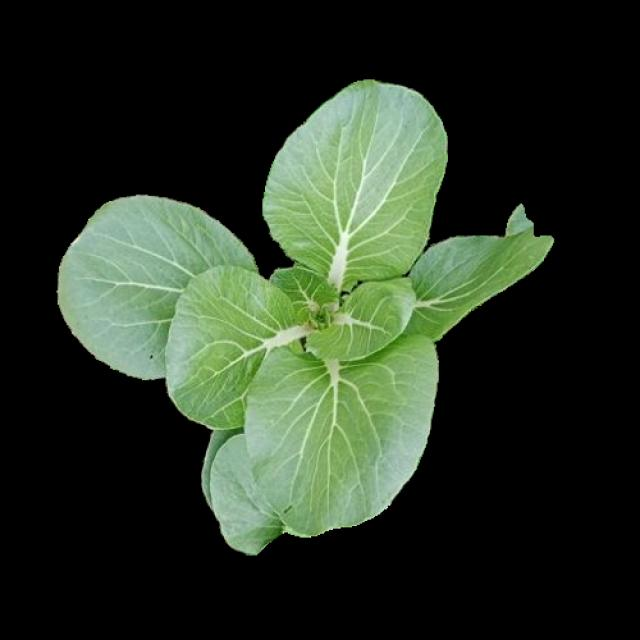healthy: (58, 76, 554, 552)
mature: (60, 80, 557, 554)
